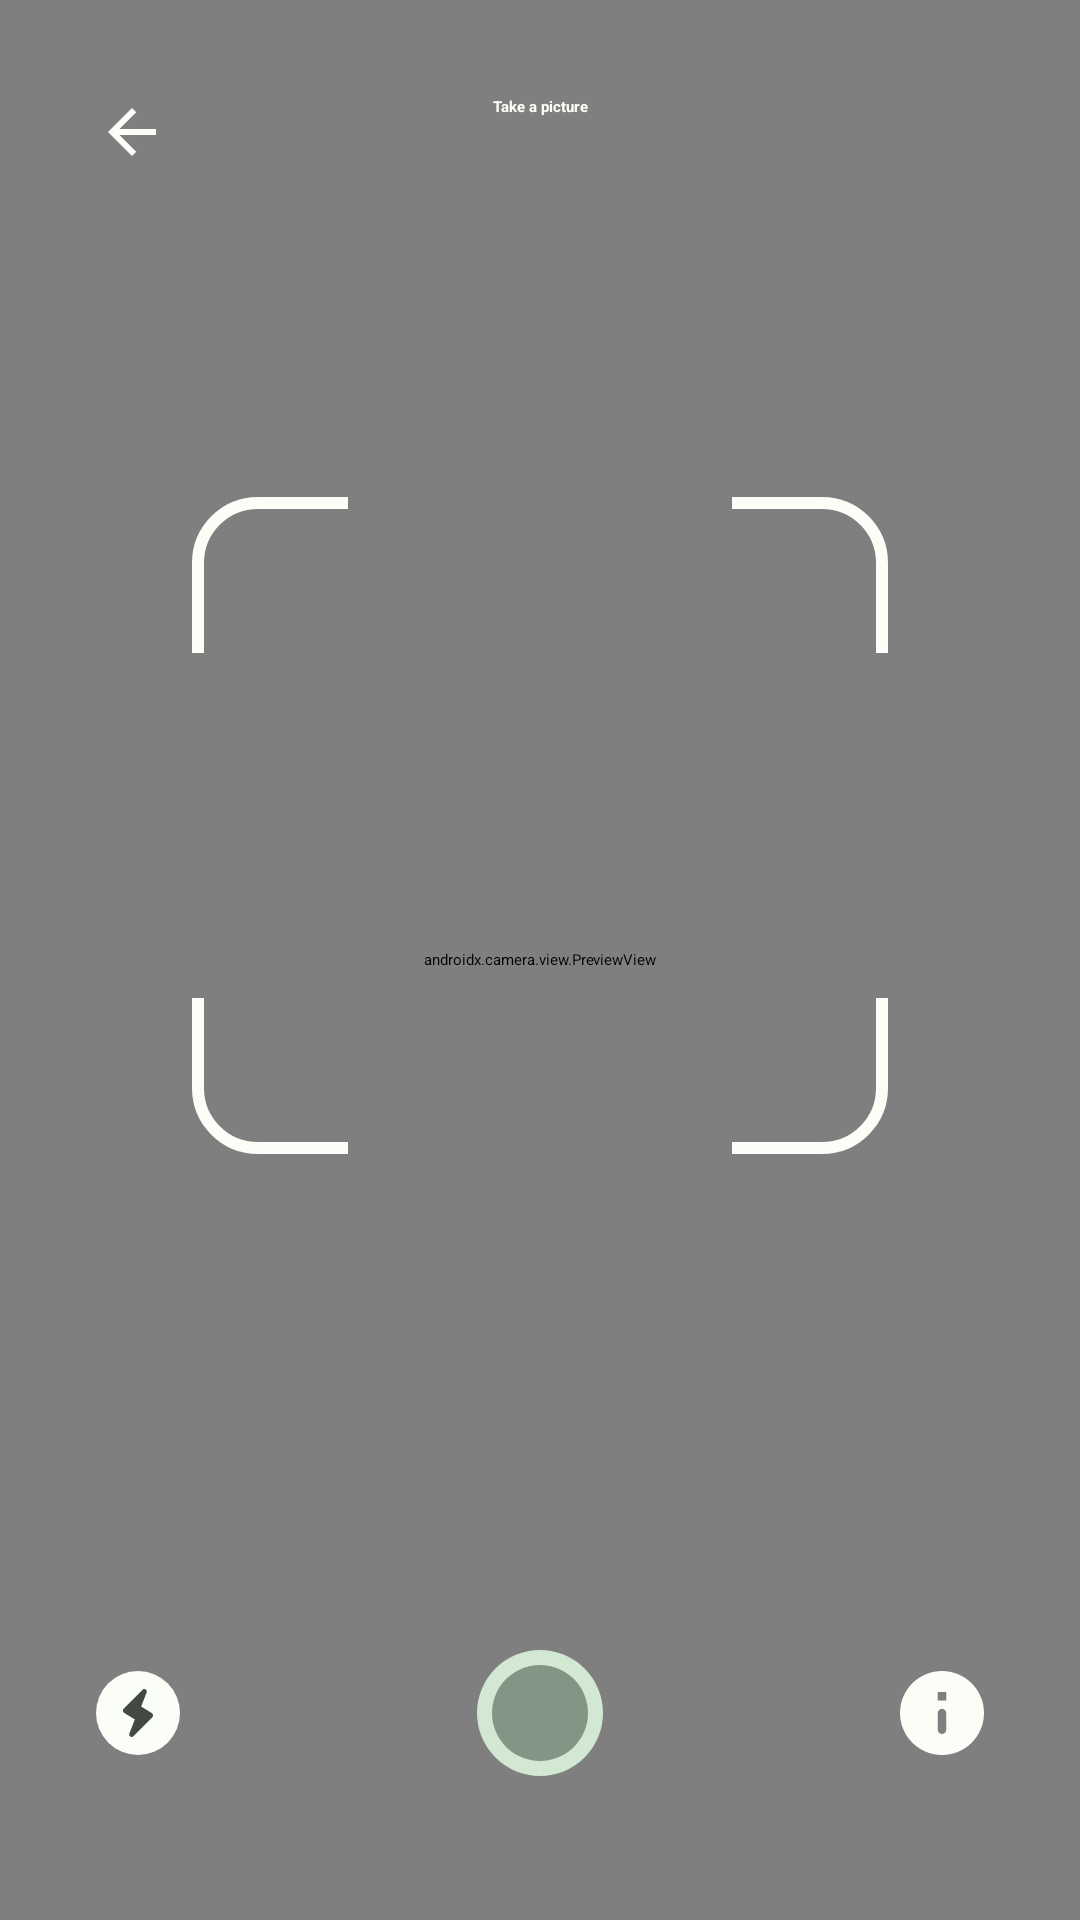

Icons on this 1080w x 1920h Android screen, each with the point to tap as (x,y):
back: (132,132)
cam shutter: (540,1713)
flash: (138,1713)
info: (942,1713)
